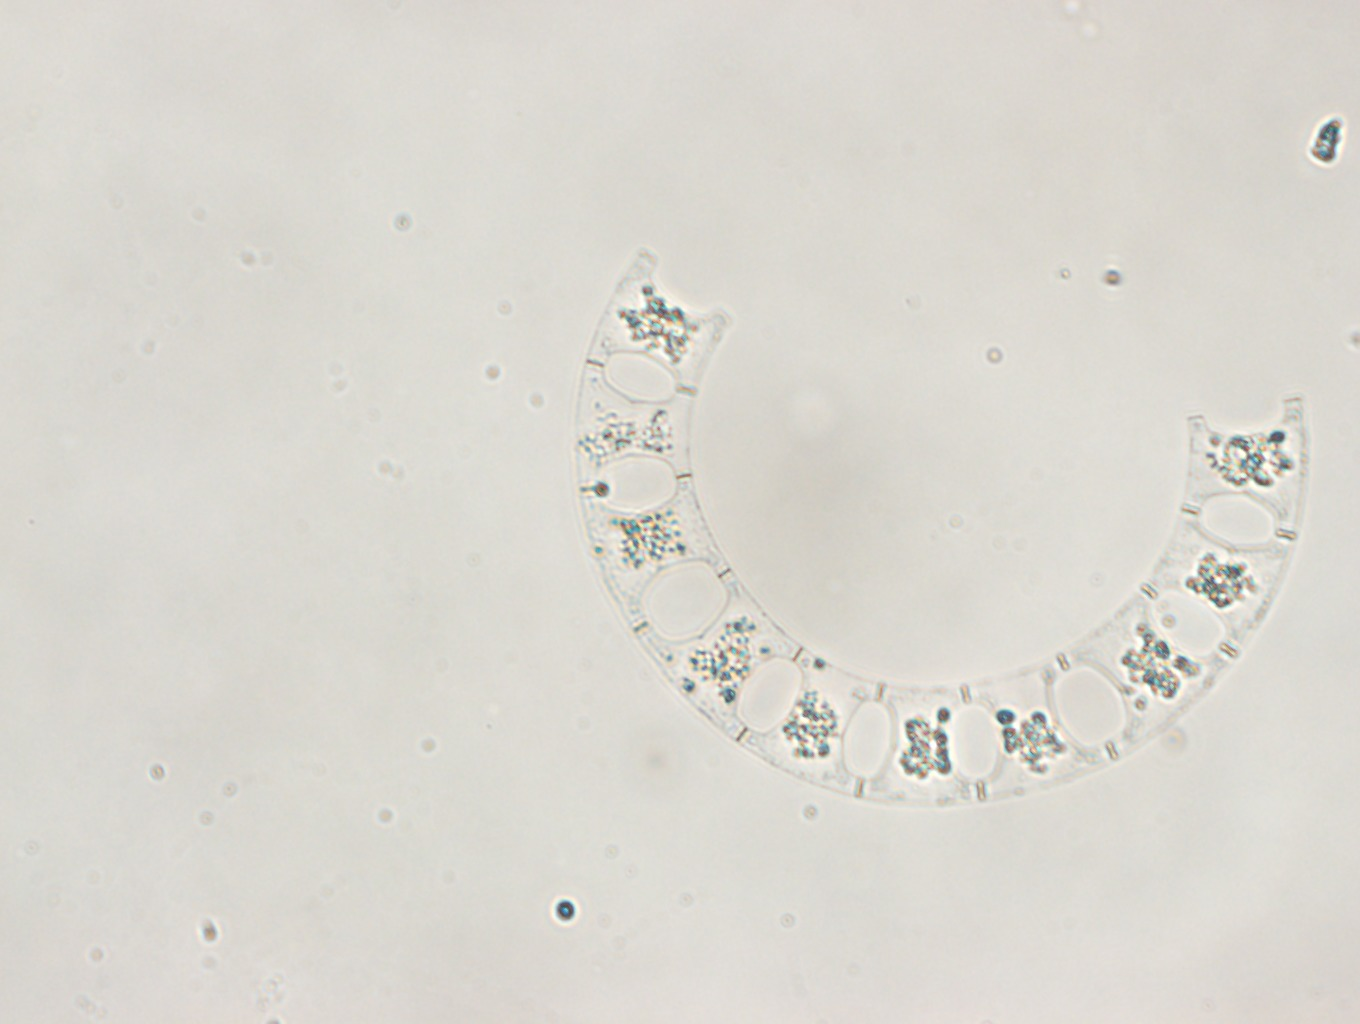eucampia: (572, 247, 1307, 810)
